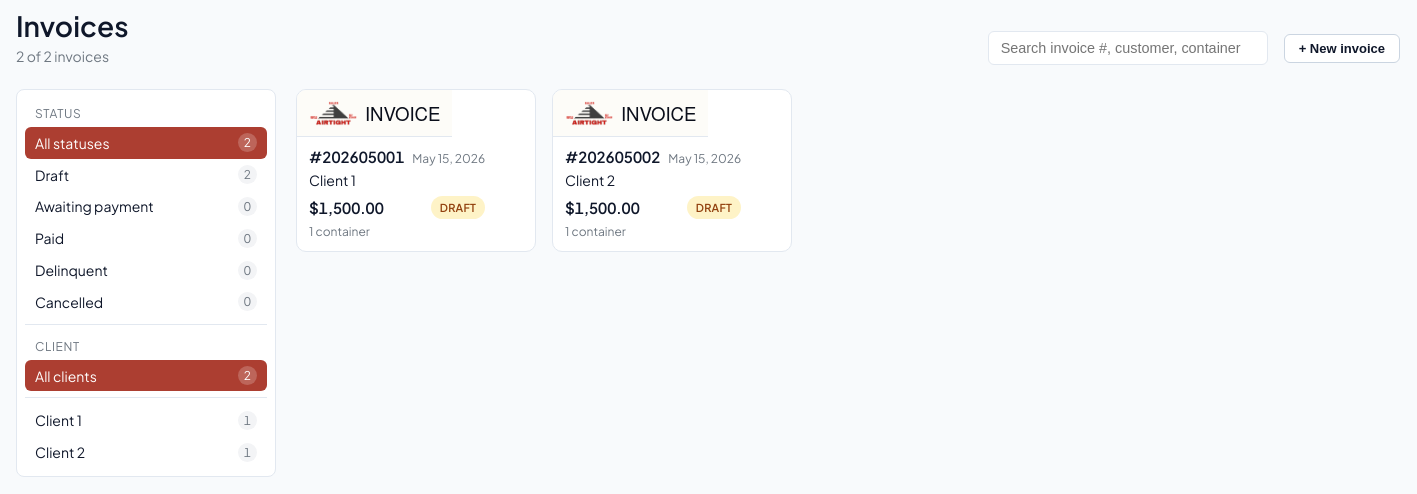
InvoicesGrid › search narrows the tile grid
Expected: the text "2 of 2 invoices" is shown, [16,47,109,65]
Type "202605001" into the search field with placeholder "Search invoice #, customer, container…".
click(1128, 48); type("202605001")  # box [988,31,1268,65]
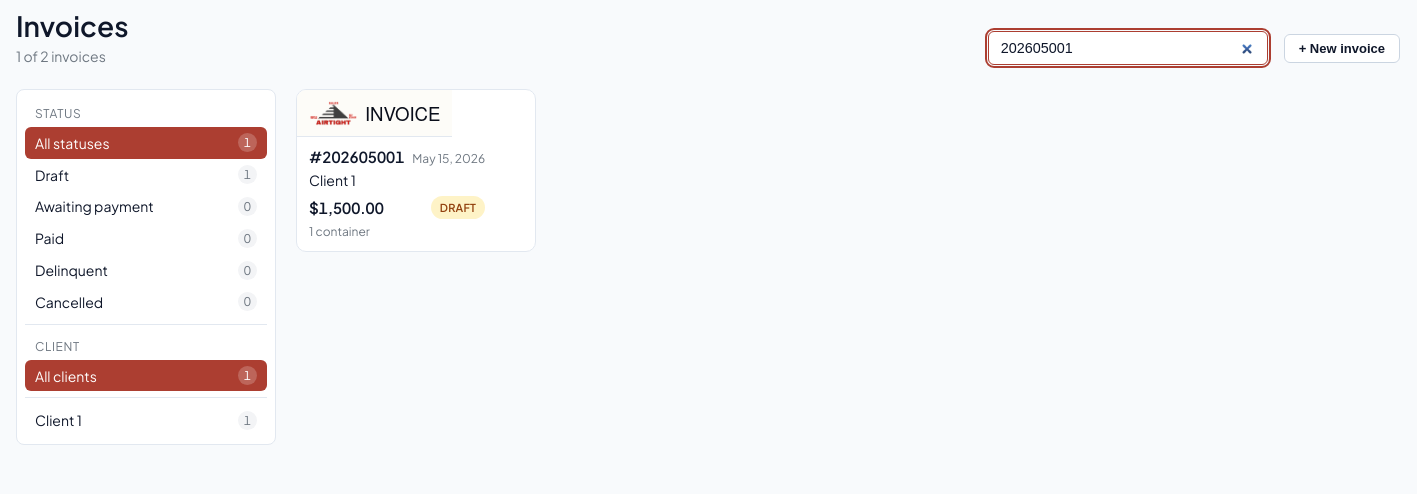
Expected: the text "#202605001" is shown, [309,147,404,166]
Expected: the text "1 of 2 invoices" is shown, [16,47,106,65]
Expected: the button "#202605002" is gone
